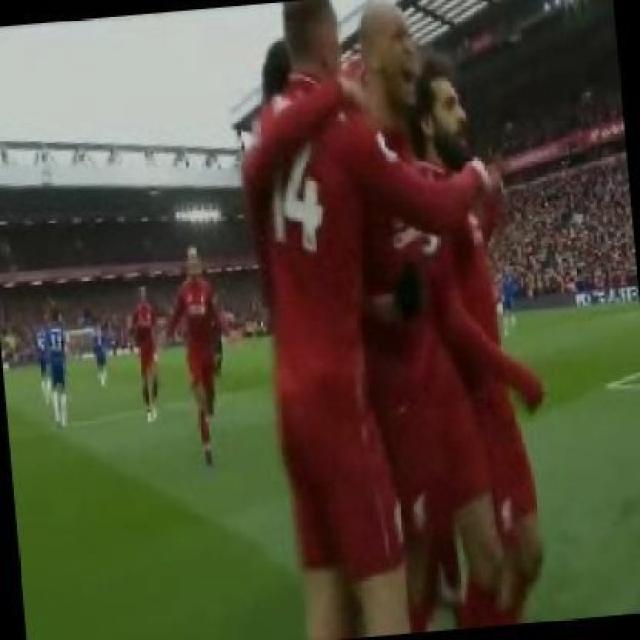non-fight: (235, 0, 468, 640), (399, 59, 540, 622), (164, 240, 236, 464), (130, 285, 161, 417), (36, 306, 69, 426), (500, 267, 521, 334), (91, 318, 111, 386)
